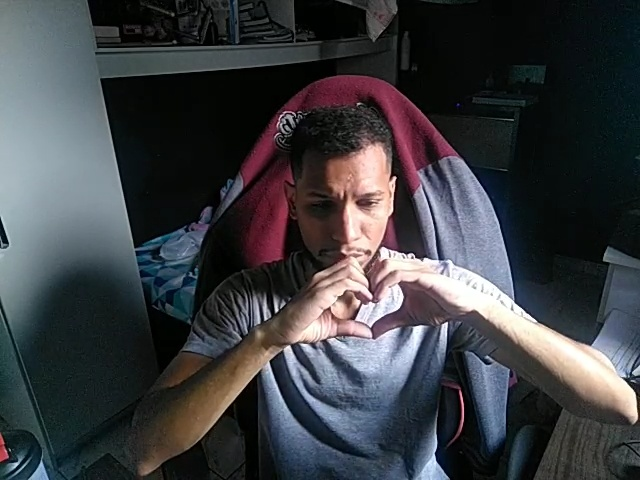eu_te_amo: (295, 256, 450, 337)
